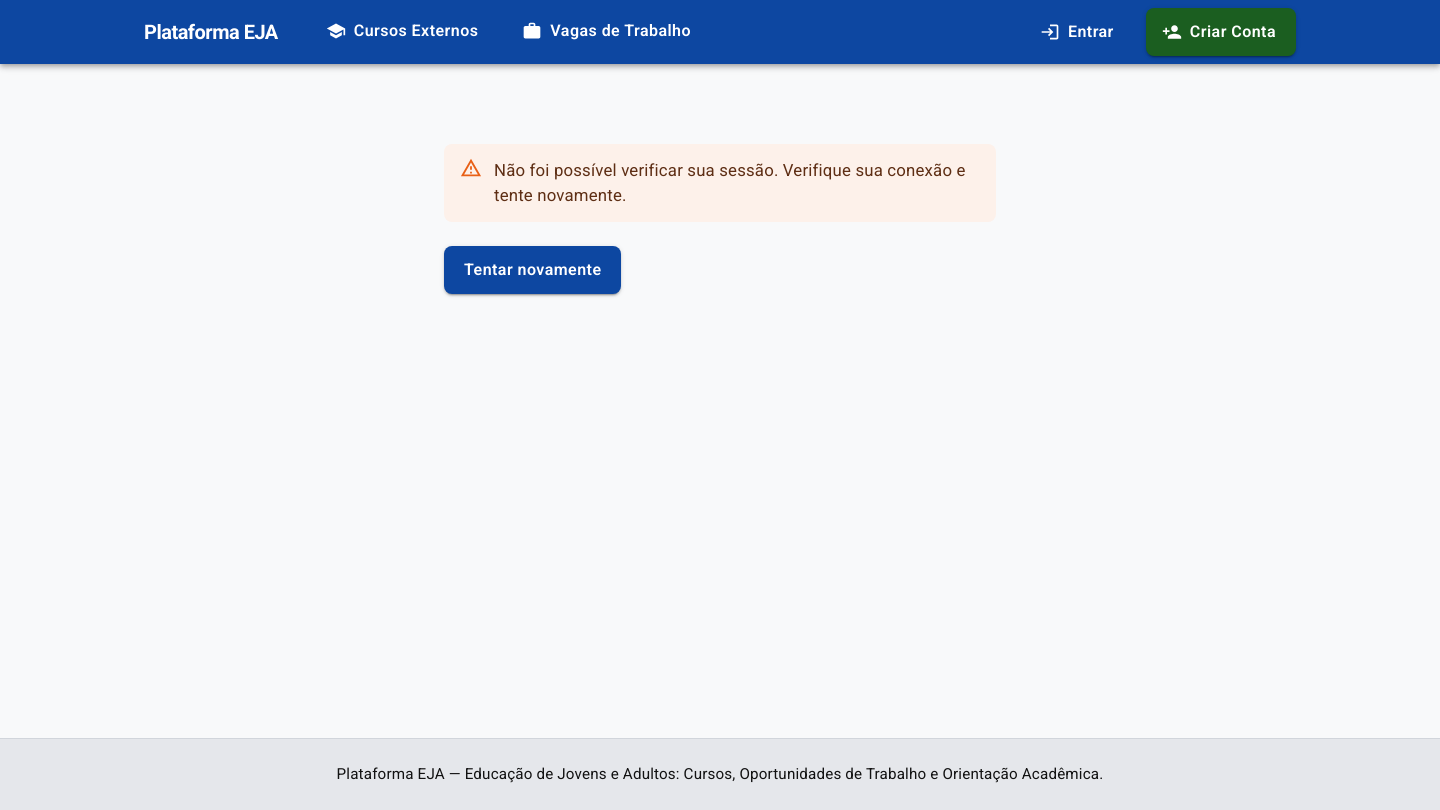
Test: falha temporária ao verificar a sessão mantém o token e permite tentar de novo
Click the button "Tentar novamente": point(533, 270) 444,246 -> 622,294
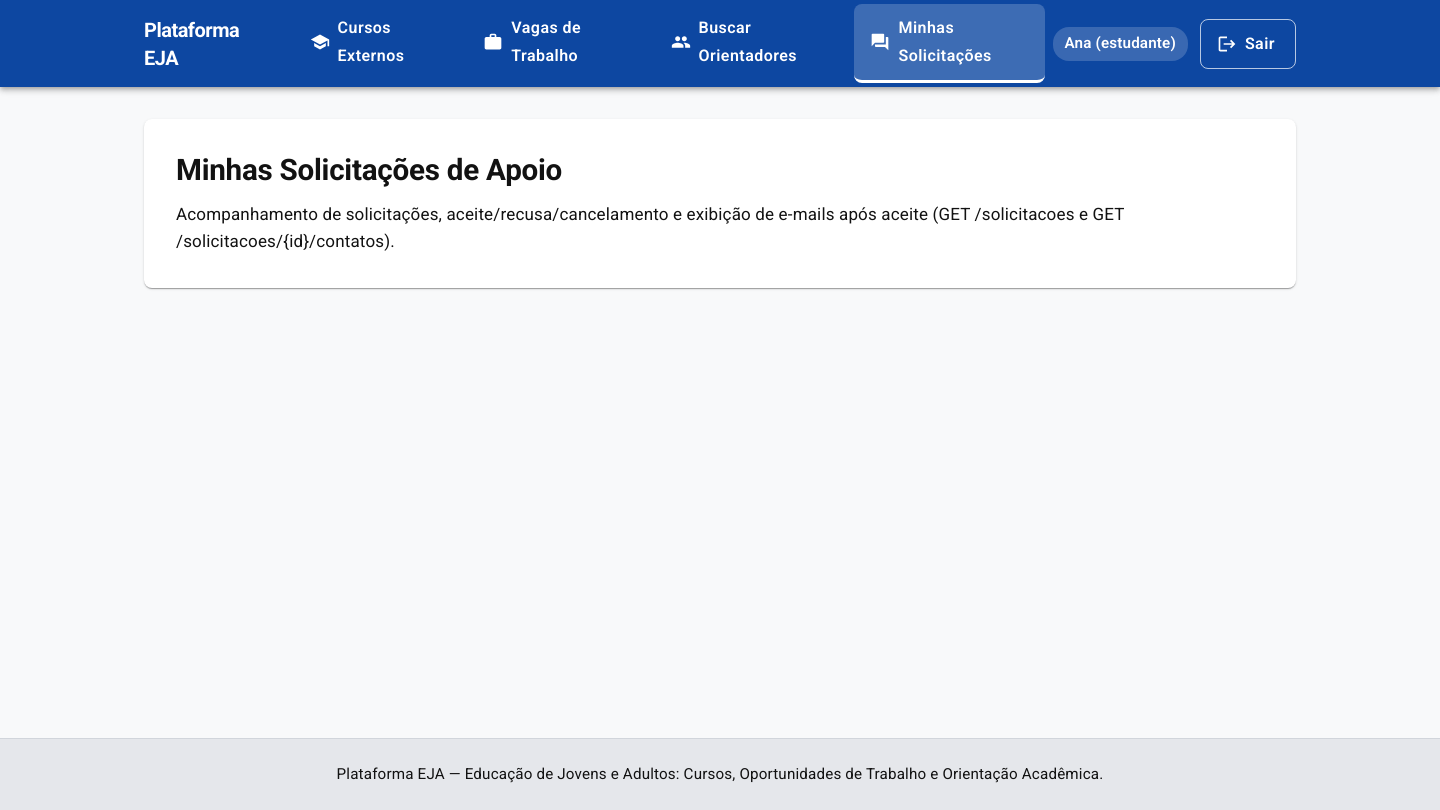
Now the heading "Minhas Solicitações de Apoio" is shown, box 176,153 -> 562,187
